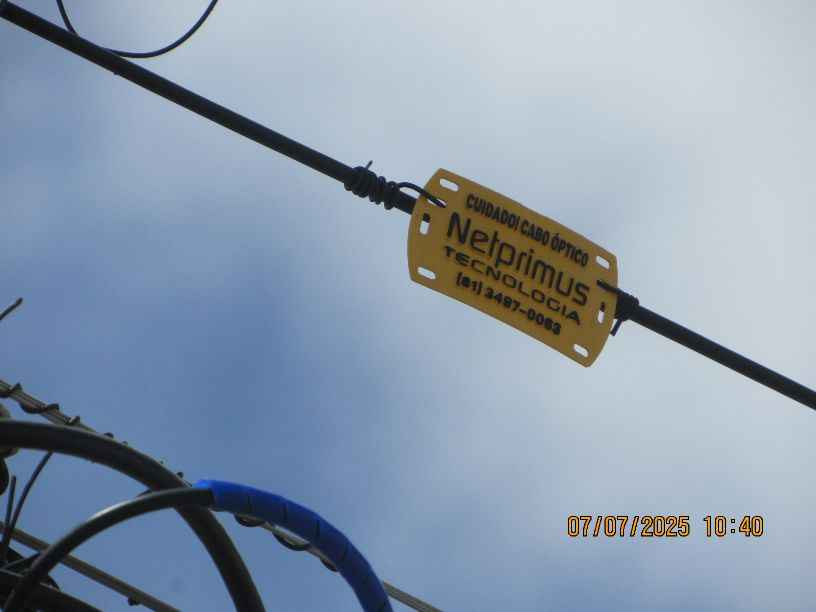fibra_optica: (371, 151, 653, 442)
